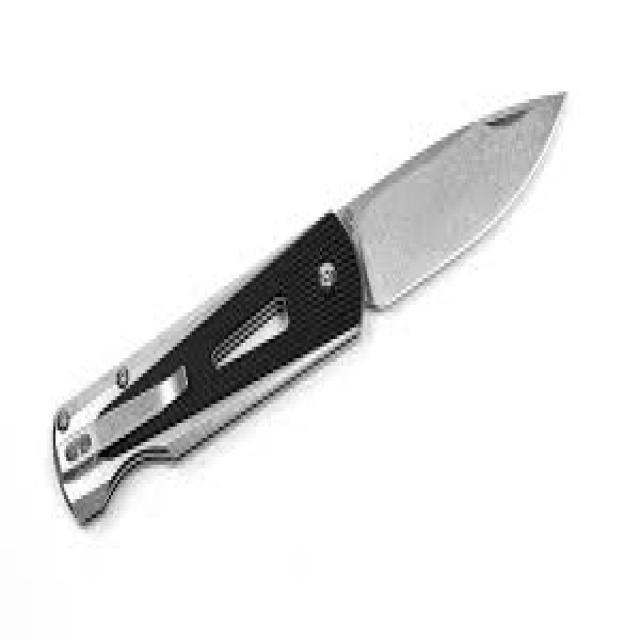knives: (47, 80, 570, 533)
